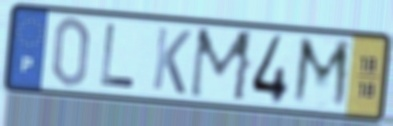0: (49, 15, 92, 90)
4: (249, 31, 291, 108)
K: (149, 25, 194, 98)
L: (98, 21, 138, 92)
M: (186, 25, 257, 105), (289, 34, 355, 113)
